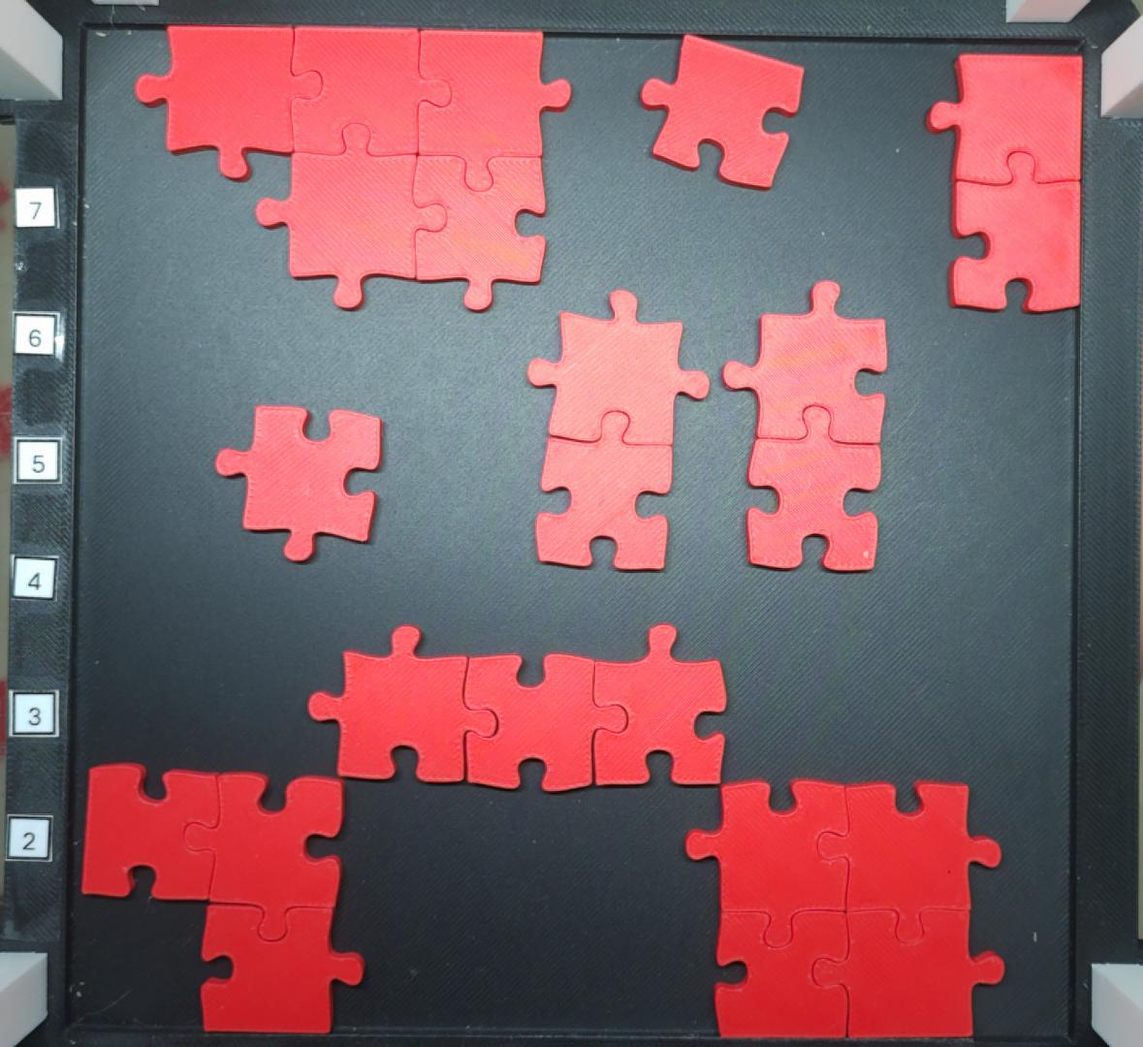p_1: (217, 407, 386, 561), (644, 34, 807, 191)
p_2: (525, 291, 719, 576), (721, 278, 891, 579), (930, 53, 1087, 316)
p_3: (79, 760, 365, 1031), (306, 625, 728, 794)
p_4: (682, 777, 1005, 1036)
p_m: (134, 26, 579, 312)
